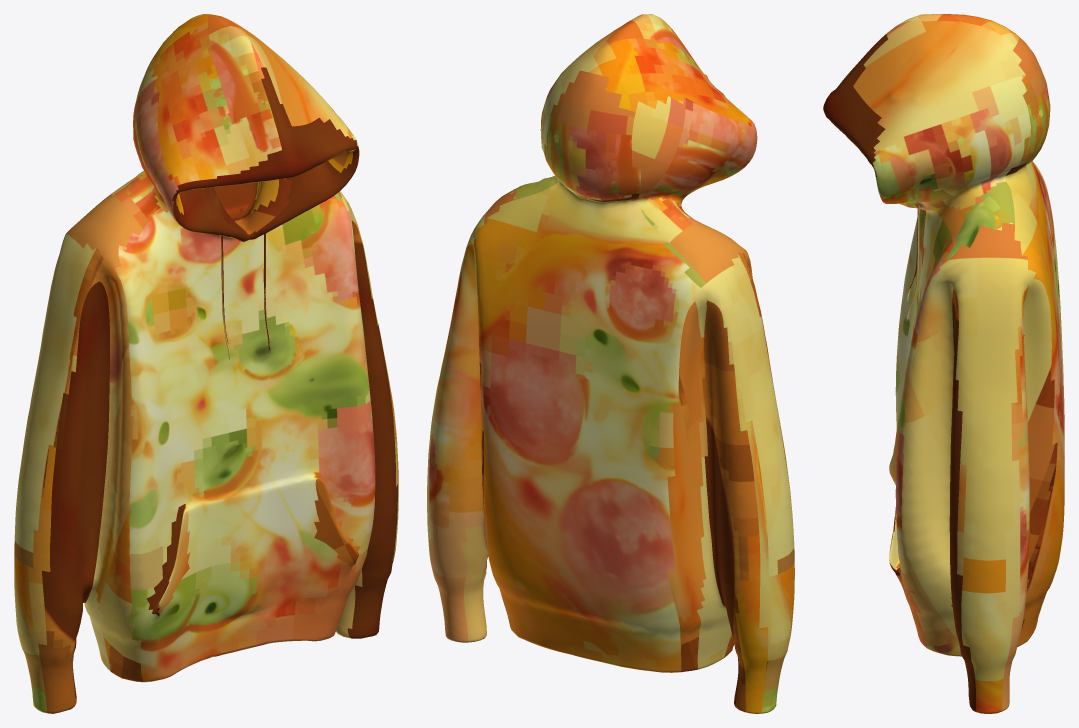
The model's file is polka_tri.obj.
3 views of the same model, side by side, from view 1: azimuth 30°, elevation 25°; view 2: azimuth 150°, elevation 25°; view 3: azimuth 270°, elevation 25° (orthographic). The views are drawn at different scales.
Bounding box in the file's own units: 1.12 × 1.9 × 0.6687.
